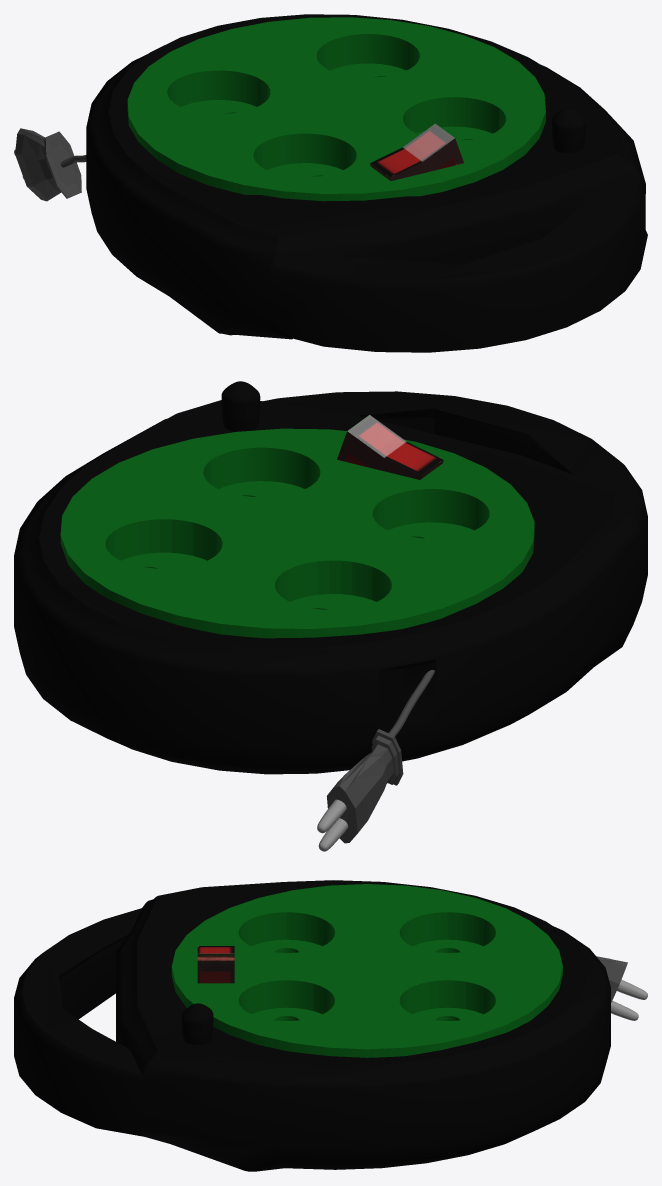
File: TERMINAL.obj
The picture shows the model from 3 angles, top to bottom: view 1: azimuth 30°, elevation 25°; view 2: azimuth 150°, elevation 25°; view 3: azimuth 270°, elevation 25°; orthographic projection. The views are drawn at different scales.
Visible parts, largest first — view 1: Cube_MattePlastic, Cylinder.001_MatteGreen, Cube.002_Material.005, Transparent-Switch_Clear_Glass; view 2: Cube_MattePlastic, Cylinder.001_MatteGreen, Cube.002_Material.005, Transparent-Switch_Clear_Glass, Cube.003_plug; view 3: Cube_MattePlastic, Cylinder.001_MatteGreen, Transparent-Switch_Clear_Glass, Cube.003_plug, Cube.002_Material.005.
Boxes of the visible parts, bbox=[...] form: Cube_MattePlastic: bbox=[86, 14, 647, 352]; Cylinder.001_MatteGreen: bbox=[127, 17, 545, 201]; Cube.002_Material.005: bbox=[15, 128, 86, 201]; Transparent-Switch_Clear_Glass: bbox=[370, 123, 463, 180]; Cube_MattePlastic: bbox=[14, 381, 647, 774]; Cylinder.001_MatteGreen: bbox=[60, 428, 534, 638]; Cube.002_Material.005: bbox=[326, 670, 434, 843]; Transparent-Switch_Clear_Glass: bbox=[337, 415, 443, 479]; Cube.003_plug: bbox=[317, 799, 348, 851]; Cube_MattePlastic: bbox=[14, 880, 610, 1171]; Cylinder.001_MatteGreen: bbox=[171, 884, 562, 1057]; Transparent-Switch_Clear_Glass: bbox=[197, 946, 234, 983]; Cube.003_plug: bbox=[611, 979, 647, 1020]; Cube.002_Material.005: bbox=[596, 956, 627, 1002].
Bounding box in the file's own units: 15 × 5.58 × 19.69.
